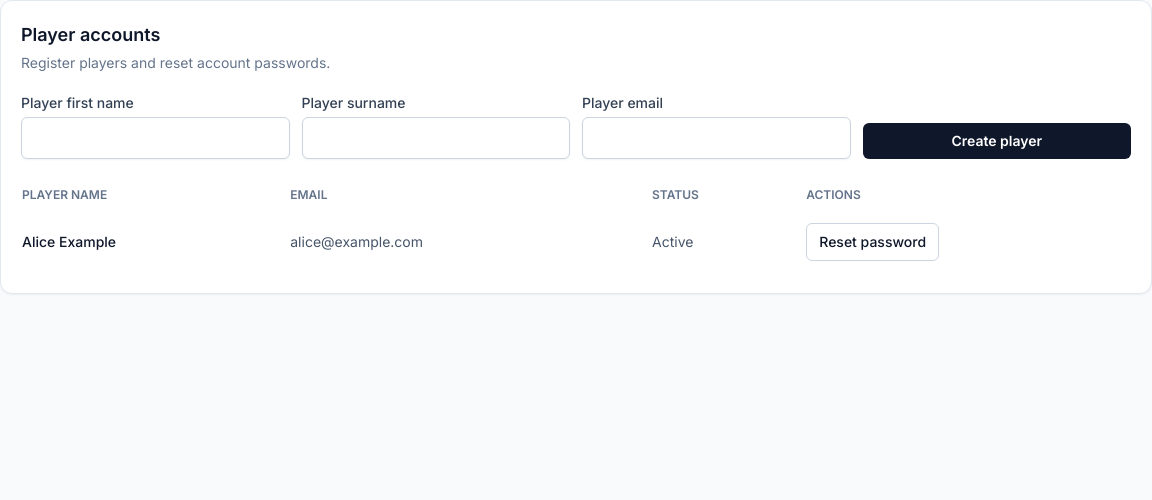
Test case: PlayerUsersPanel › lists existing players and creates a new player account
Expected: the text "Alice Example" is shown, [21,211,289,273]
Expected: the text "alice@example.com" is shown, [289,211,651,273]
In the field labelled "Player first name": (155, 138) [21,117,290,159], type "Bob"
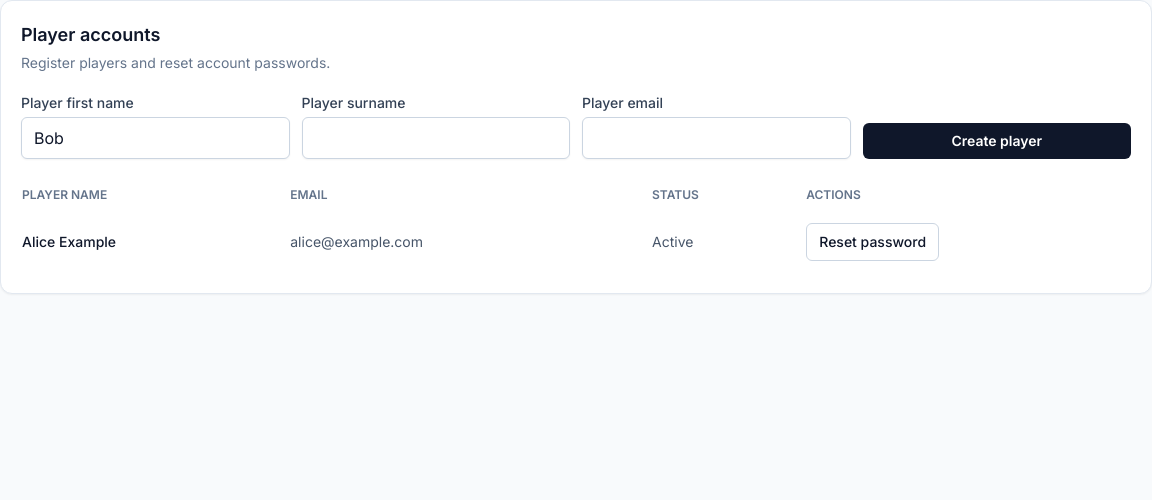
In the field labelled "Player surname": (436, 138) [302,117,570,159], type "Builder"
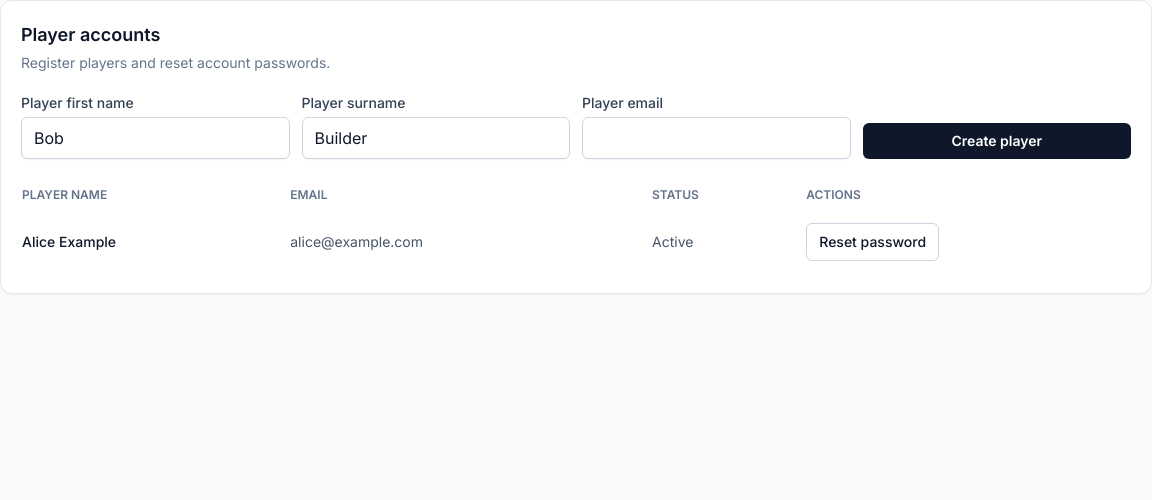
In the field labelled "Player email": (716, 138) [582,117,850,159], type "bob@example.com"
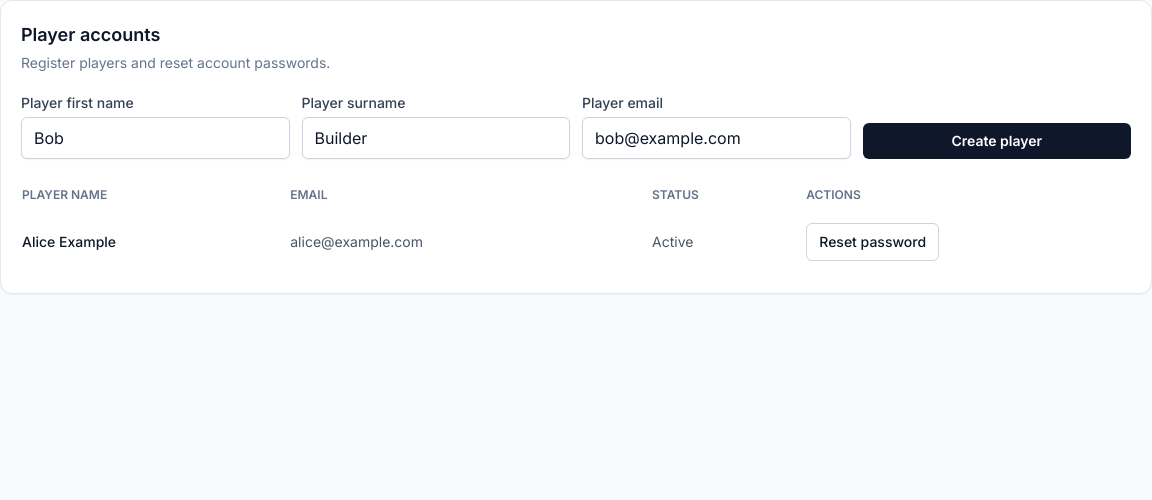
Click the button "Create player": (997, 141) [862,123,1131,159]
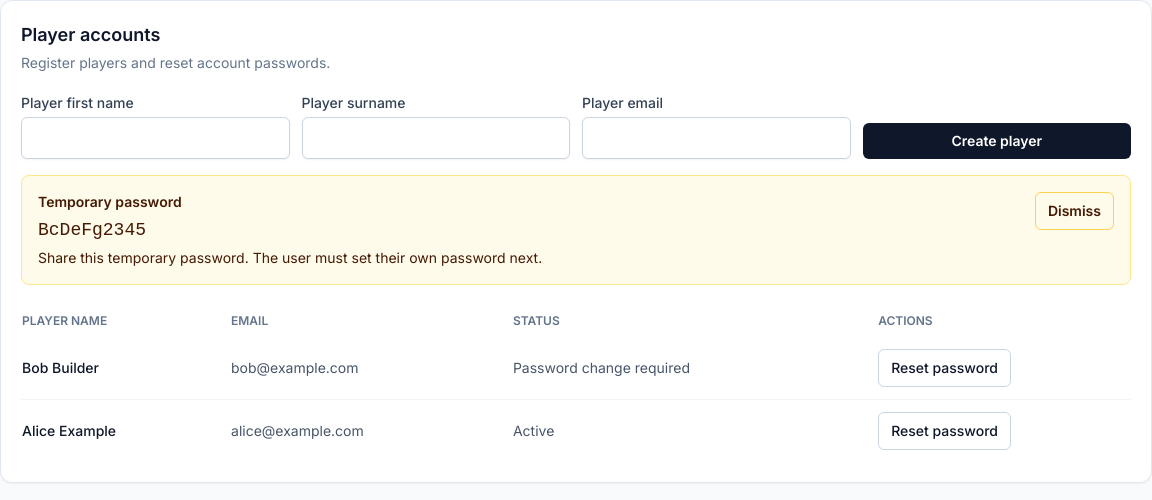
Now the text "Temporary password" is shown, box [38,193,182,210]
Now the text "BcDeFg2345" is shown, box [38,220,146,240]
Now the text "Bob Builder" is shown, box [21,337,230,400]
